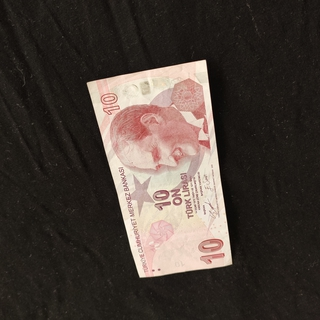10TLFront: (85, 57, 234, 278)
